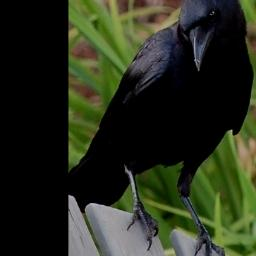Crow: (70, 0, 254, 256)
